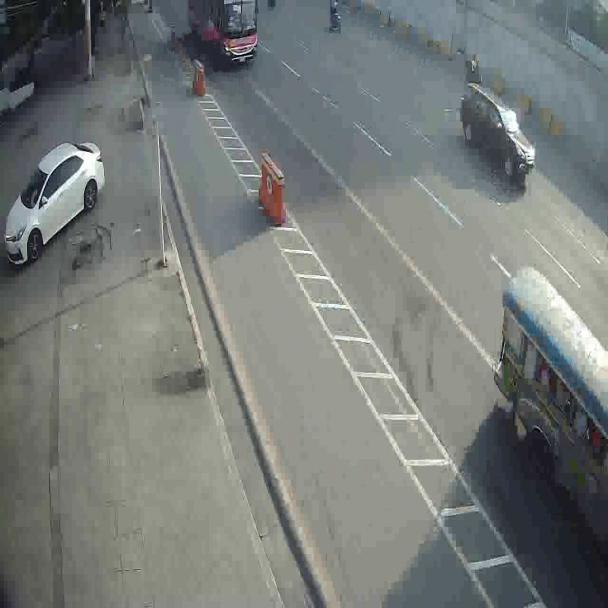motorcyclist: (460, 84, 537, 192), (325, 4, 343, 36)
vehicle: (492, 263, 608, 576), (7, 142, 105, 272), (187, 1, 259, 72)
